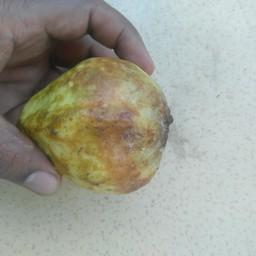Bad_guava: (18, 55, 173, 197)
